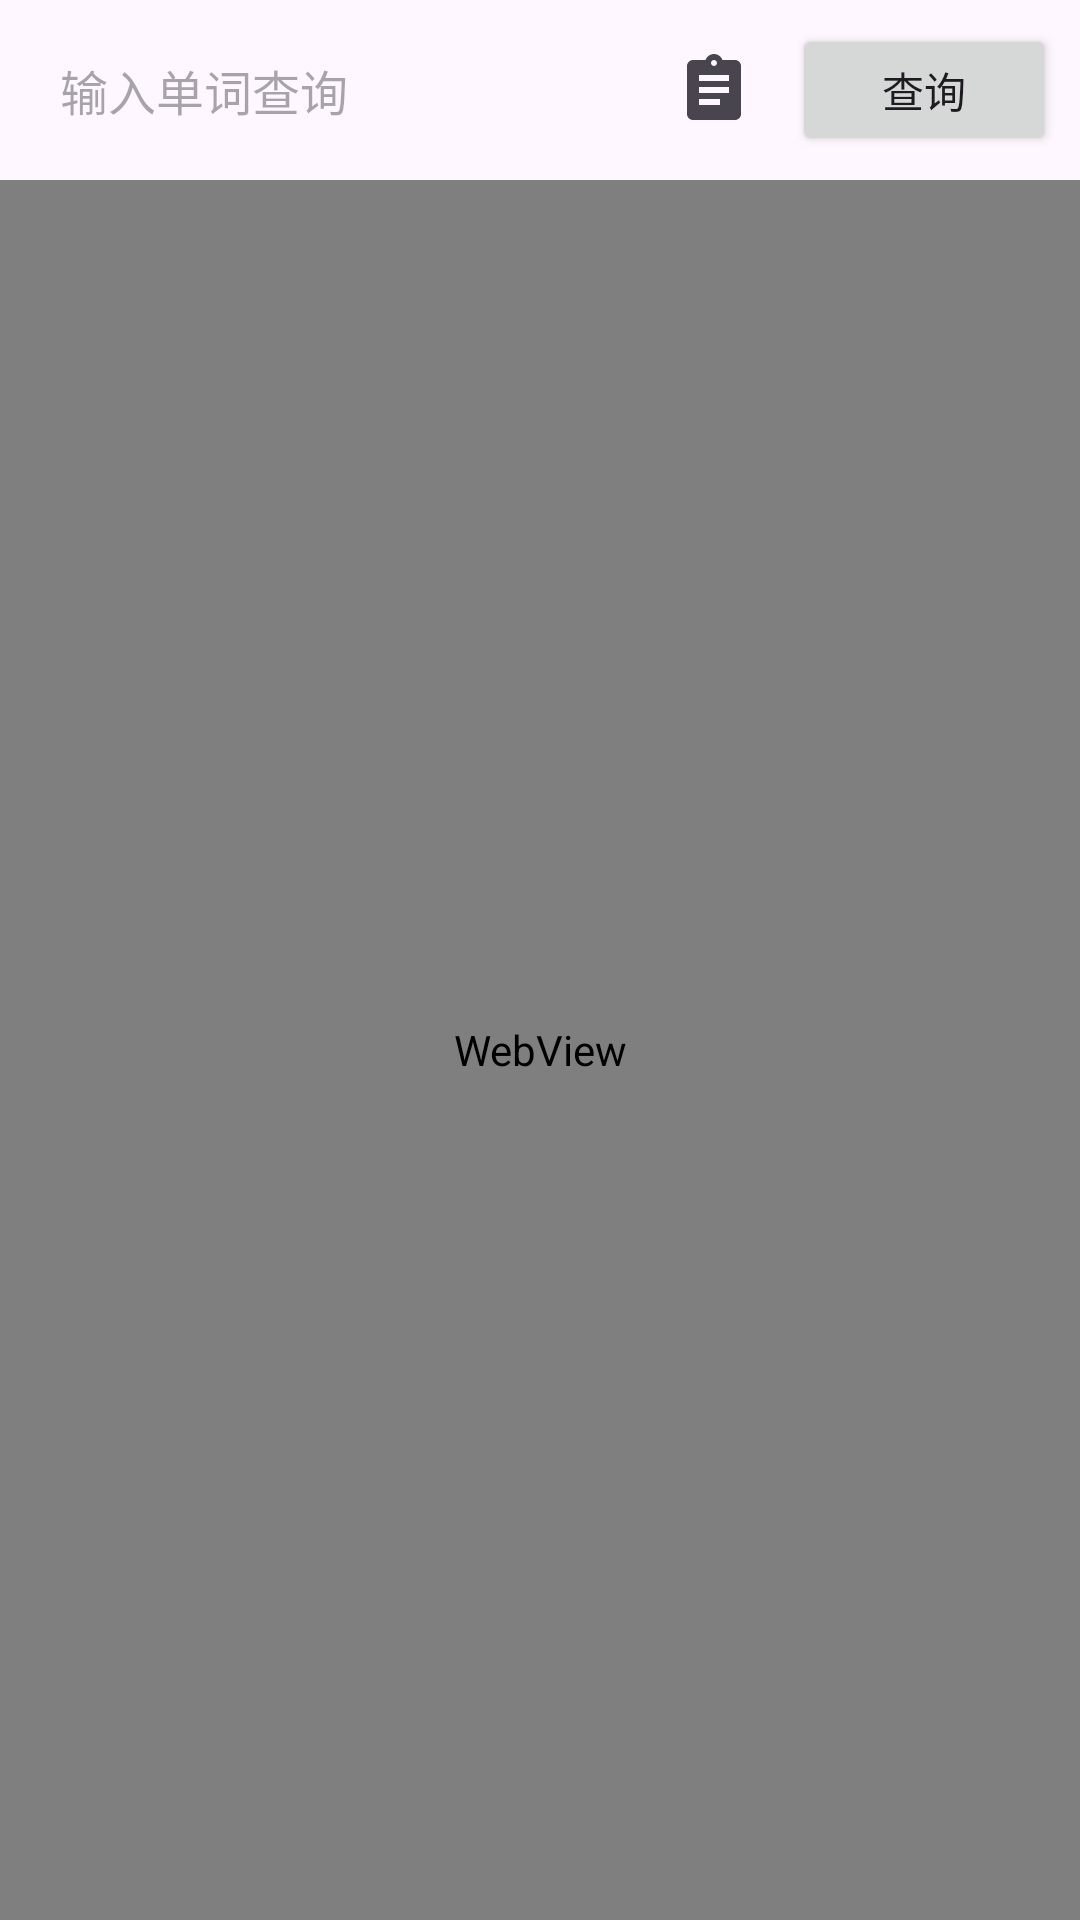

Icon bounding boxes for this 1080 x 1920 phone screenshot, format (x1, y1, x2, y2):
粘贴: (687, 54, 741, 120)
